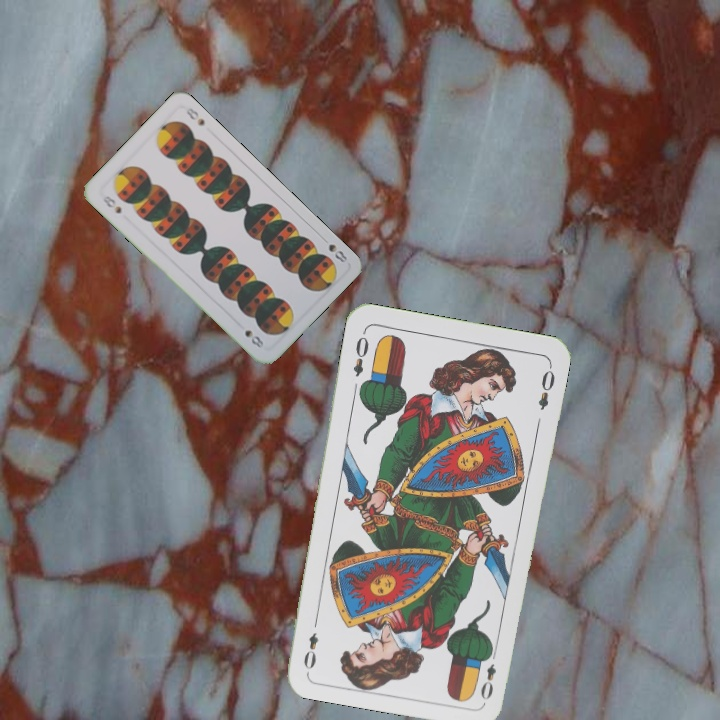EO: (476, 645, 499, 703), (348, 332, 372, 379)
S8: (317, 232, 350, 265), (98, 191, 124, 217)
